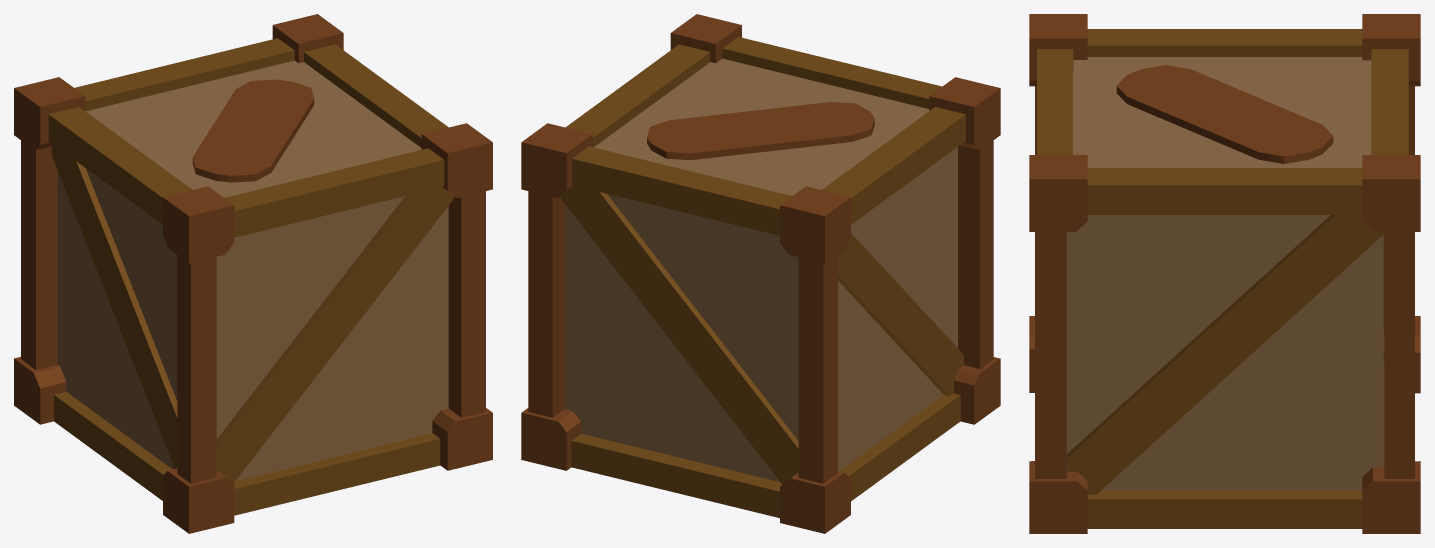
Rendered from Crate.fbx.
The picture shows the model from 3 angles, left to right: view 1: azimuth 30°, elevation 25°; view 2: azimuth 150°, elevation 25°; view 3: azimuth 270°, elevation 25°; orthographic projection. The views are drawn at different scales.
Visible parts, largest first — view 1: Crate; view 2: Crate; view 3: Crate.
Boxes of the visible parts, left/top/right/bottom form: Crate: left=14, top=14, right=492, bottom=533; Crate: left=521, top=14, right=1000, bottom=533; Crate: left=1029, top=14, right=1420, bottom=533.
Bounding box in the file's own units: 2.35 × 2.35 × 2.35.
